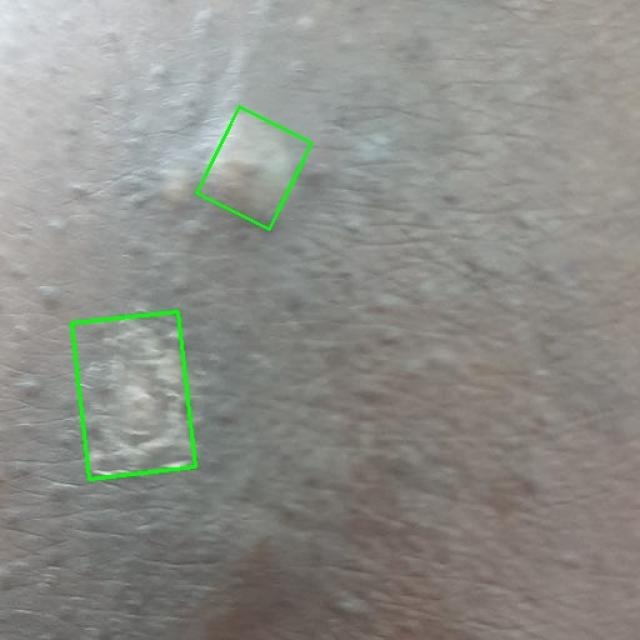Seborrheic Dermatitis: (72, 311, 195, 479), (196, 107, 312, 229)
